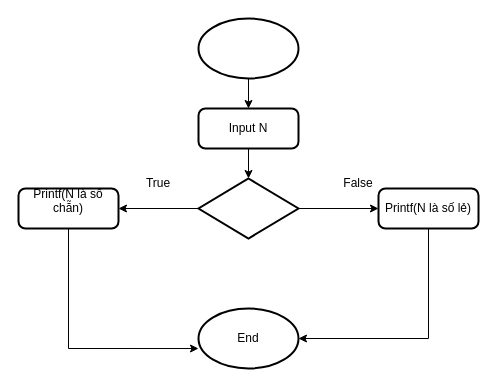
This 496x386 diagram has some shape labels left out. Each missing label, with the centre of its shape:
If N mod 2: the point at 248,208
Start: the point at 248,48
